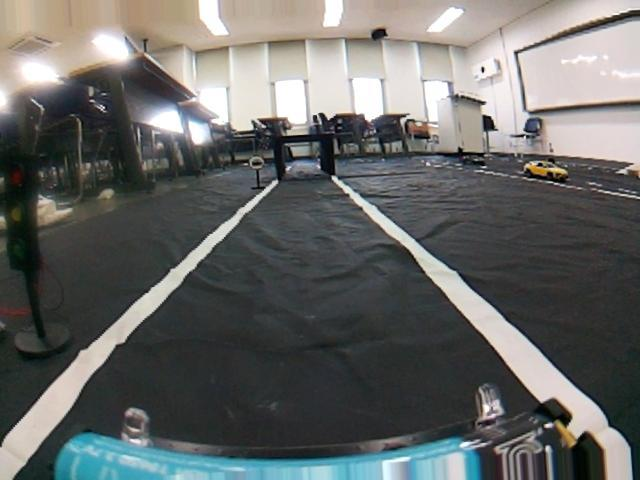green_light: (1, 155, 46, 278)
straight: (4, 312, 640, 479)
